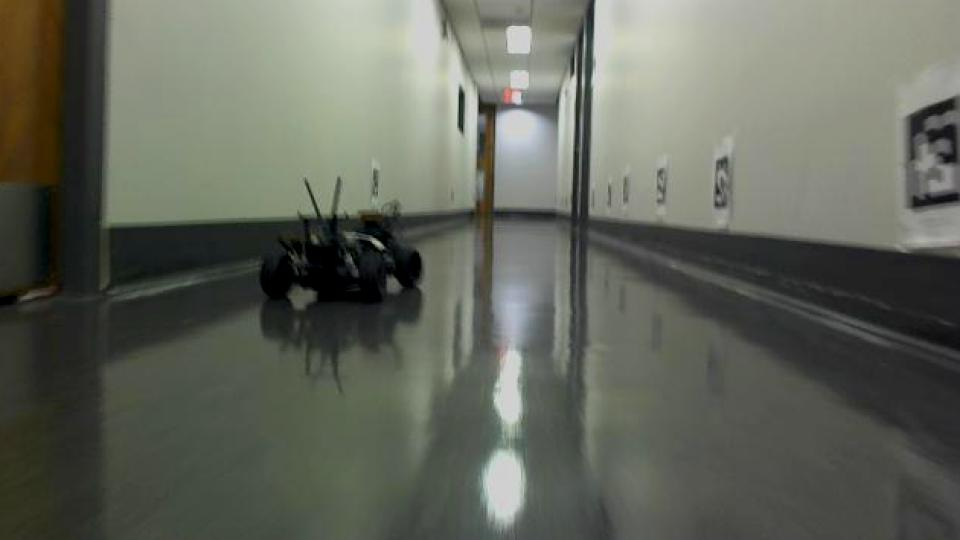car: (255, 168, 425, 308)
